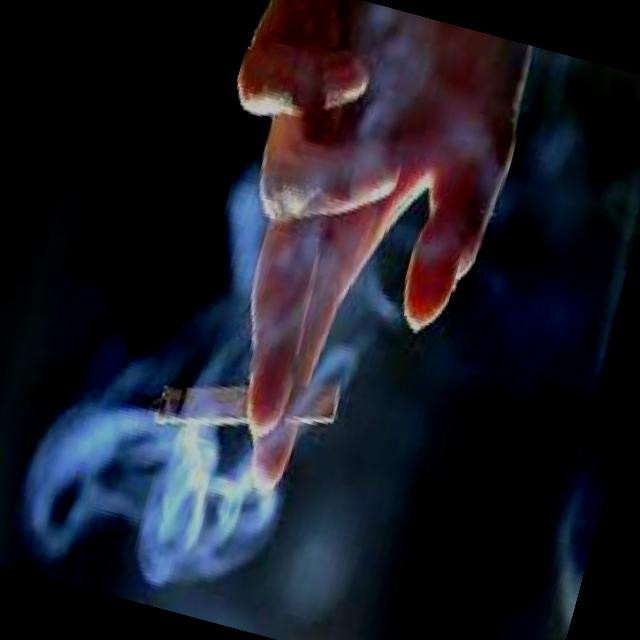cigarette: (148, 326, 355, 475)
